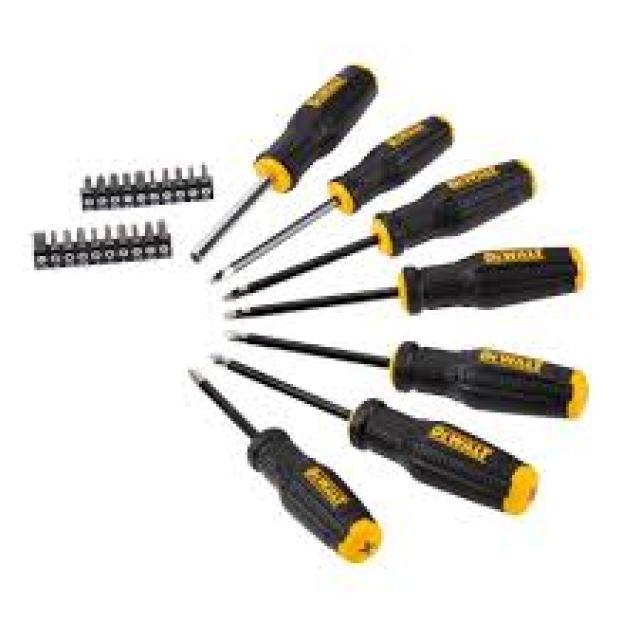screwdriver: (202, 346, 546, 520), (218, 155, 540, 303), (205, 114, 458, 290), (179, 364, 384, 566), (186, 61, 380, 272), (218, 332, 598, 427), (219, 240, 592, 323)
